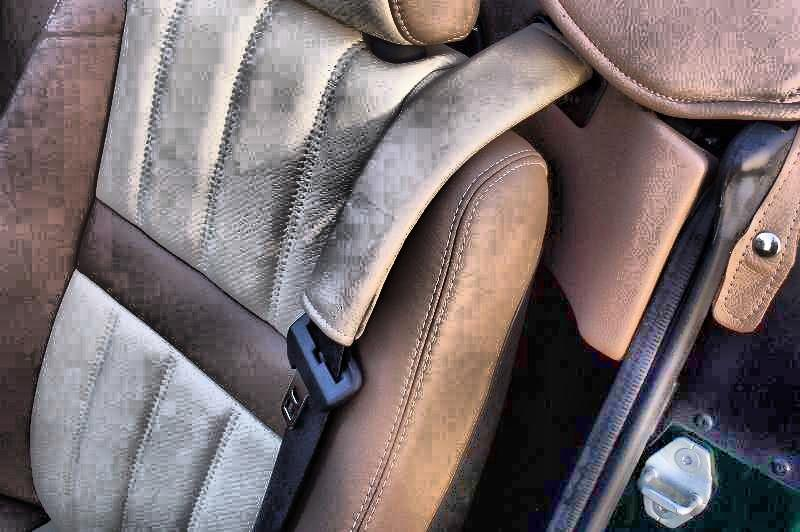seatbelt: (219, 100, 508, 495)
